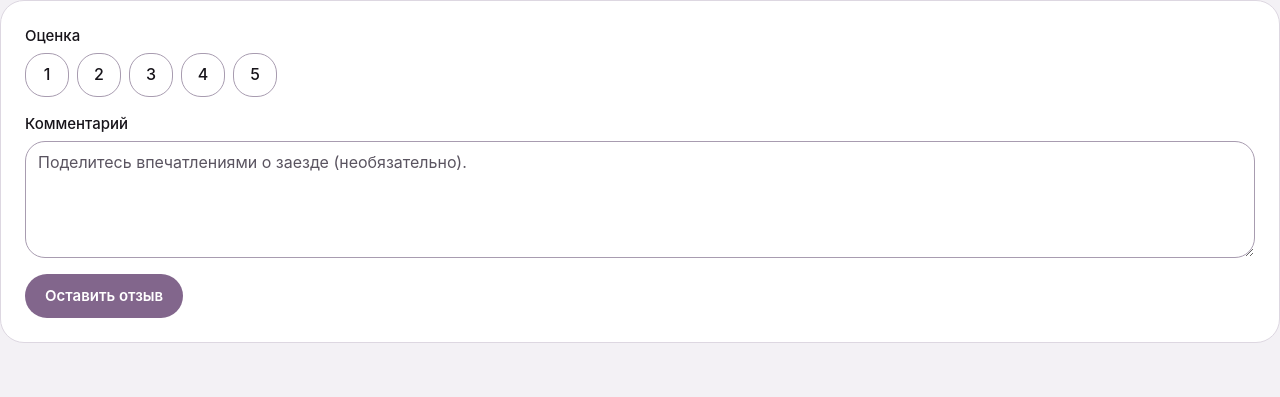
ReviewForm validation lines (CR-194) › shows the generic Russian line for a code it does not know
What coordinates should you click on to do the following:
click the radio button named "4 из 5"
I would click on:
 (203, 75)
Its box is [181,53,225,97].
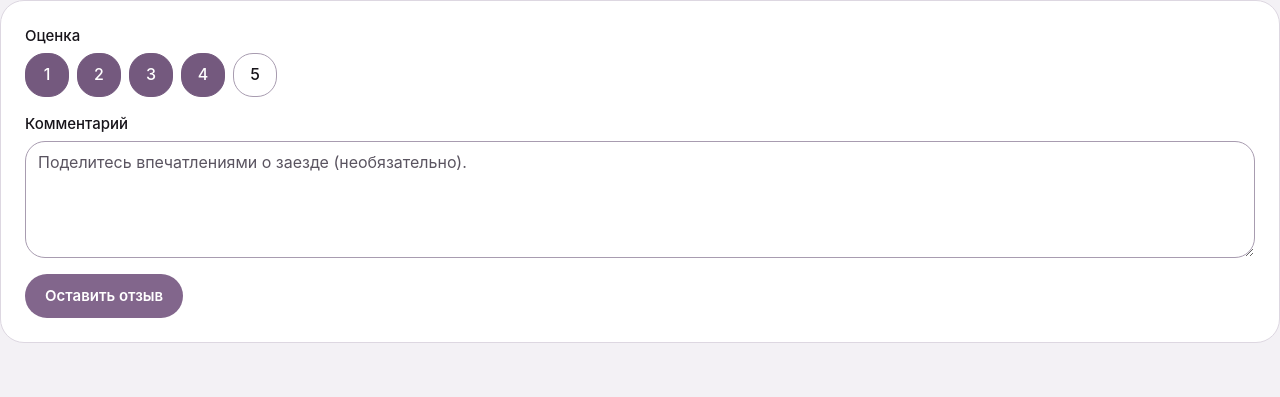
What coordinates should you click on to do the following:
click the button "Оставить отзыв"
I would click on:
 (104, 296)
Its box is [25,274,183,318].
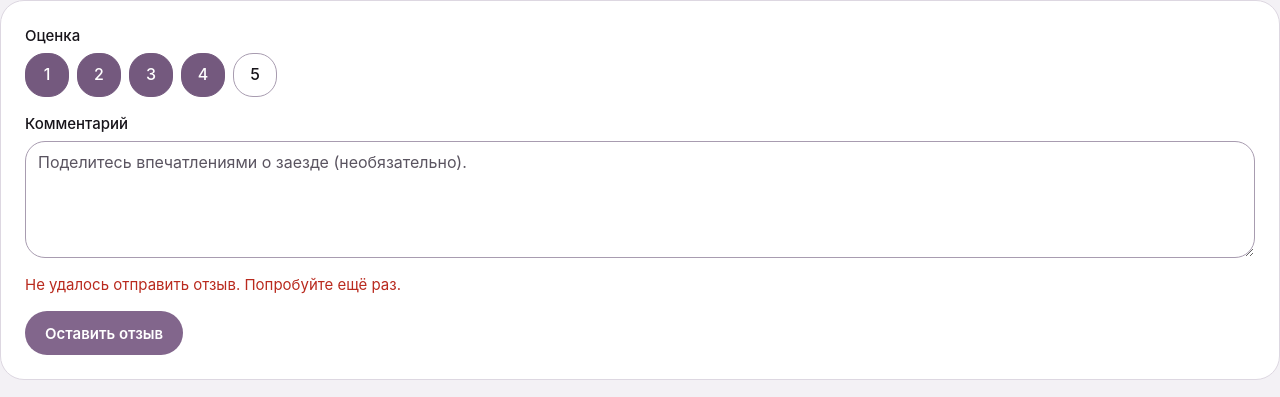
Result: the message reads "Не удалось отправить отзыв. Попробуйте ещё раз." at [25,275,401,294]
